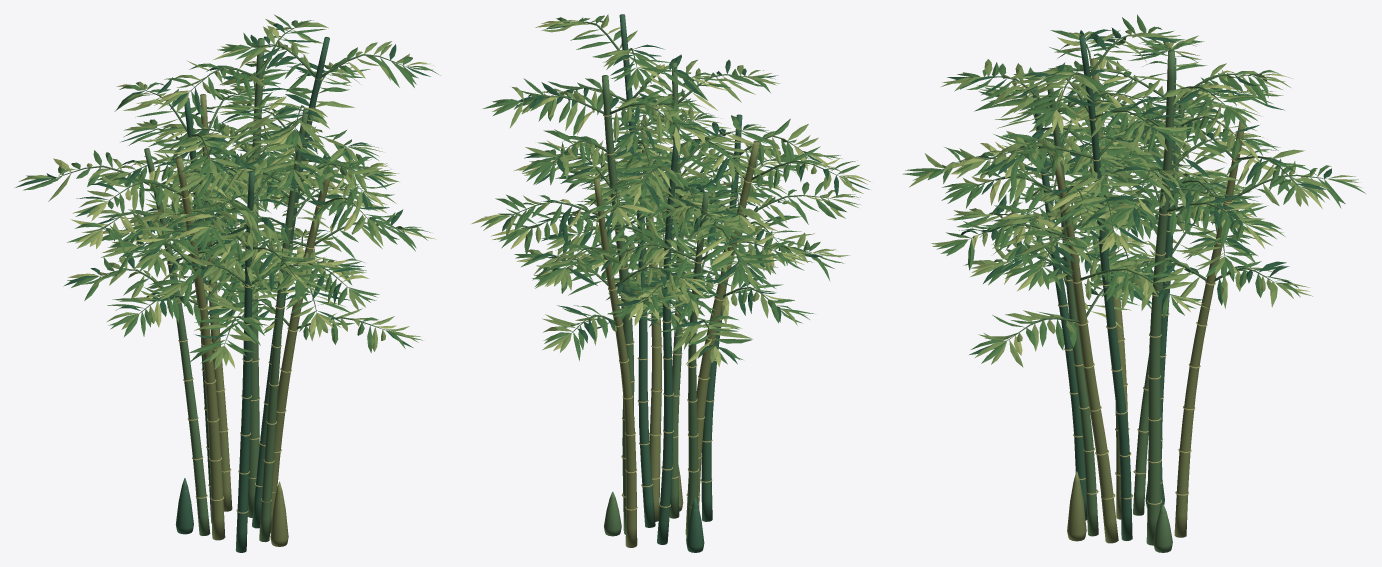
File: bamboo.glb
3 views of the same model, side by side, from view 1: azimuth 30°, elevation 25°; view 2: azimuth 150°, elevation 25°; view 3: azimuth 270°, elevation 25° (orthographic). The views are drawn at different scales.
Visible parts, largest first — view 1: bamboo; view 2: bamboo; view 3: bamboo.
Boxes of the visible parts, x1,y1,x2,y2 form: bamboo: (15,14,440,552); bamboo: (471,14,870,552); bamboo: (902,14,1365,552).
Size of the model in its own units: 3.33 by 4.46 by 3.57.
1 material, 1 textured.
